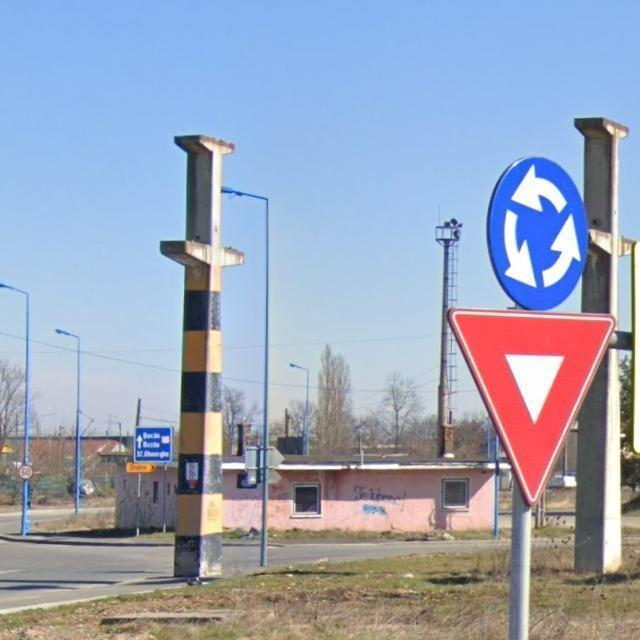prio_give_way: (442, 307, 616, 501)
